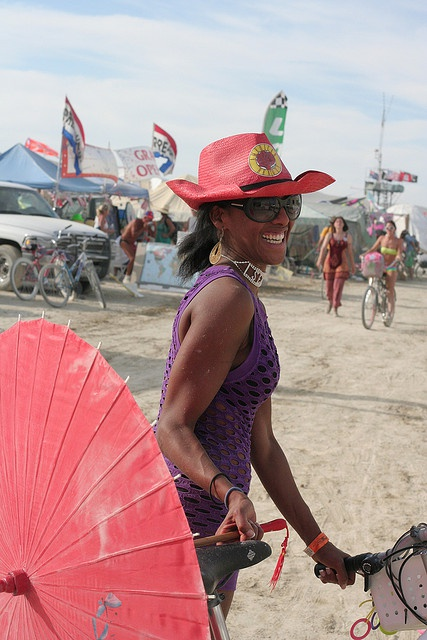non-vehicle: (194, 526, 427, 640), (39, 236, 103, 308), (11, 229, 63, 300), (360, 253, 395, 332)
